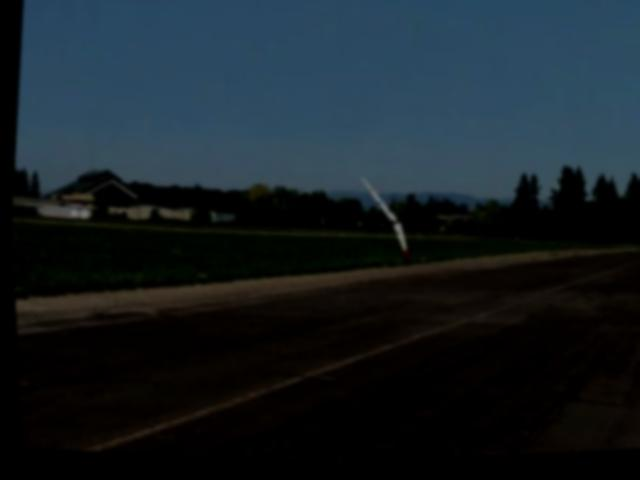flying wing: (346, 176, 417, 273)
